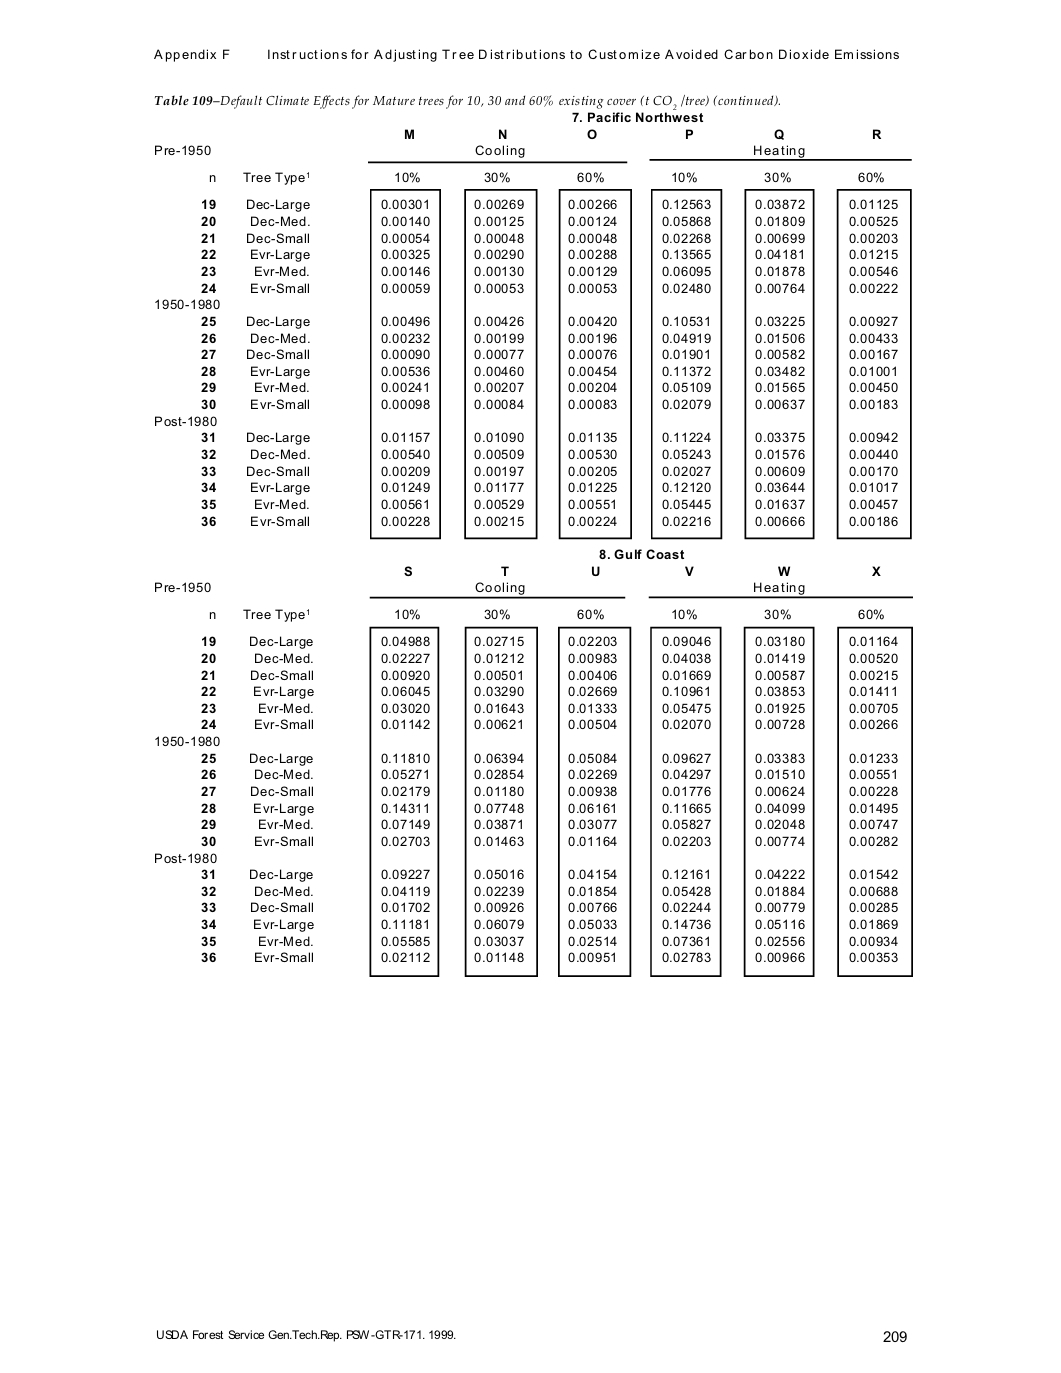Table: (155, 566, 912, 976), (155, 129, 911, 539)
